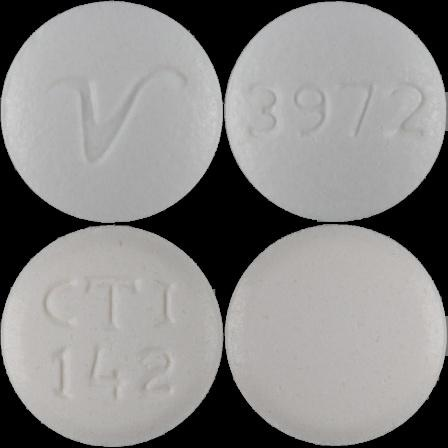68788-9661: (0, 0, 224, 224)
